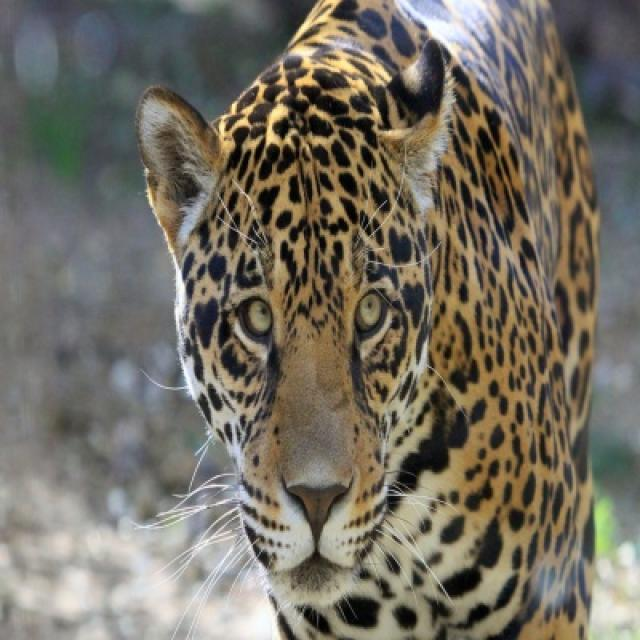Jaguar: (133, 0, 602, 638)
